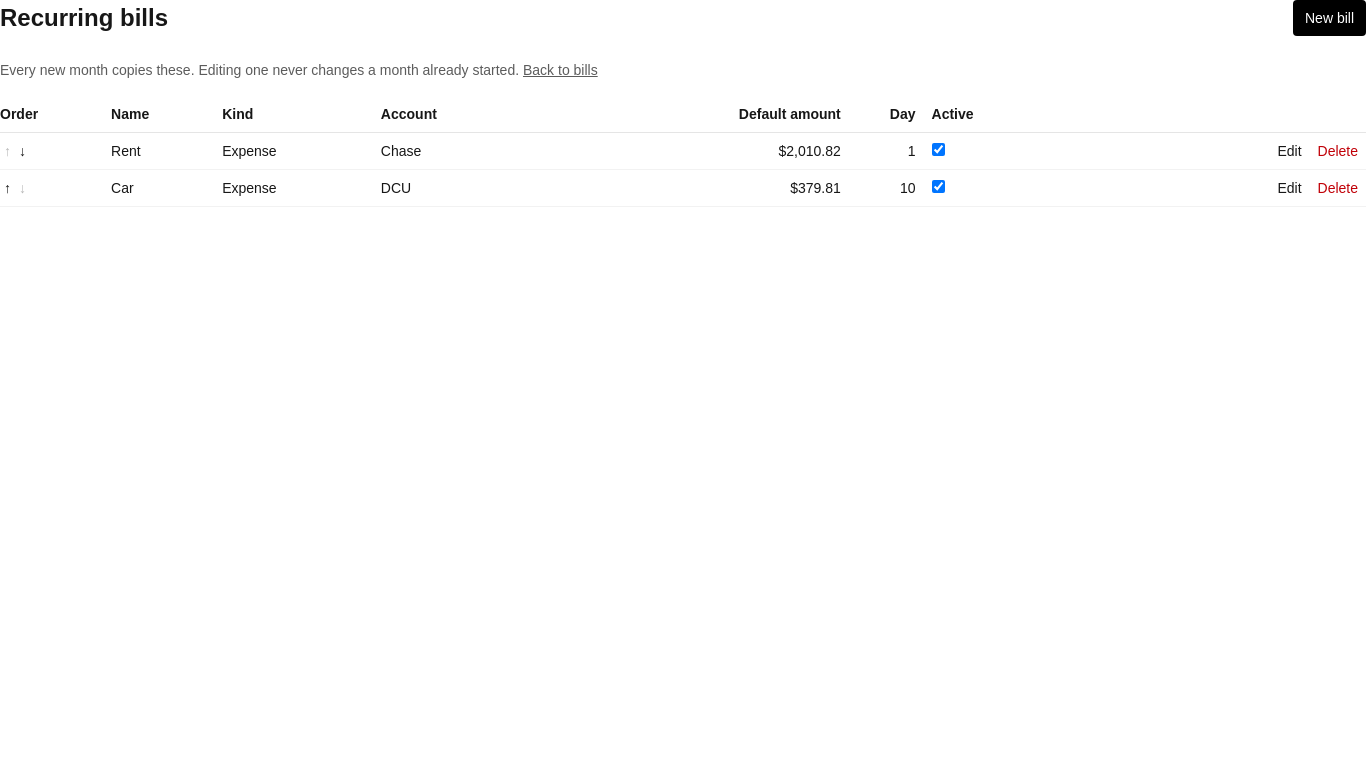
Test: RecurringItemsPage › shows the 409 message when a bill used by a month is deleted
What coordinates should you click on to do the following:
click the button named "Delete Rent"
I would click on:
 (1338, 151)
Its box is [1310,141,1365,161].
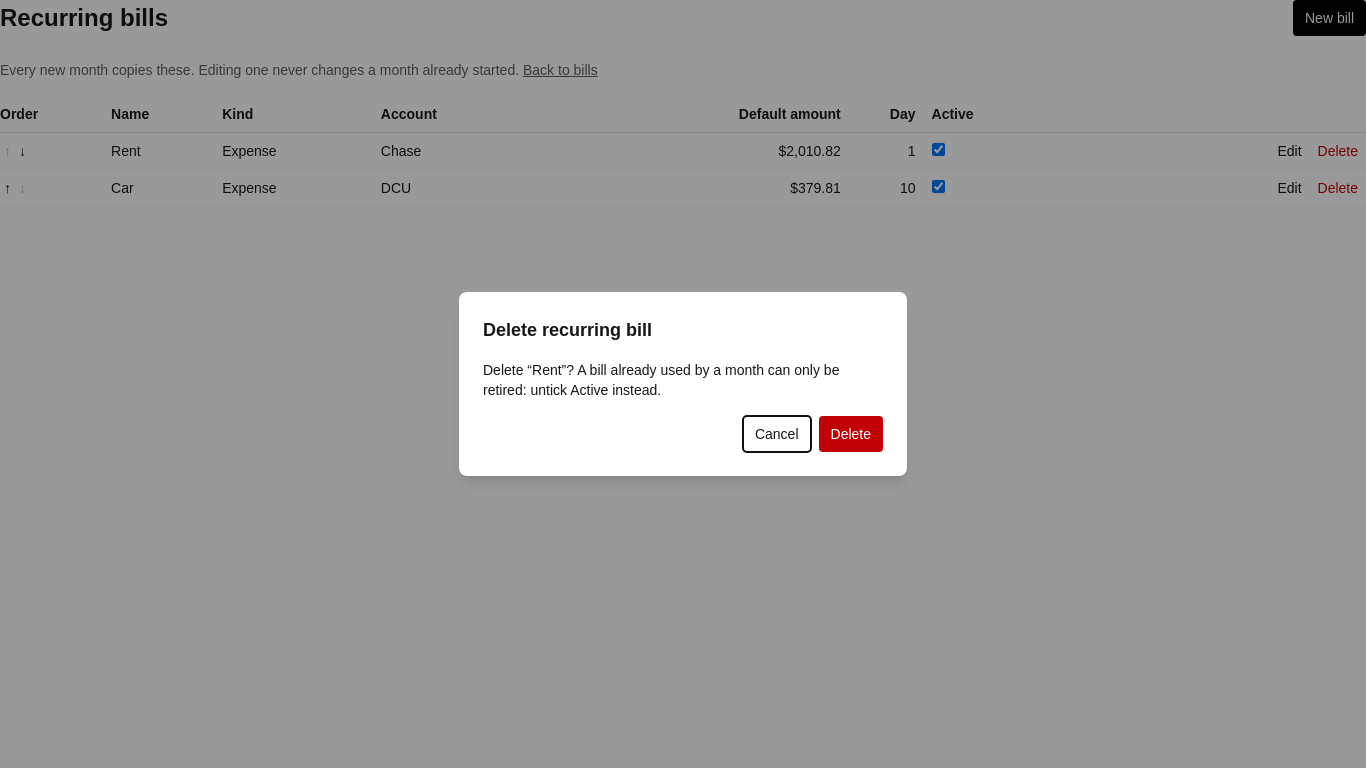
What coordinates should you click on to do the following:
click the button "Delete"
I would click on:
 (851, 434)
Its box is [818,416,883,452].
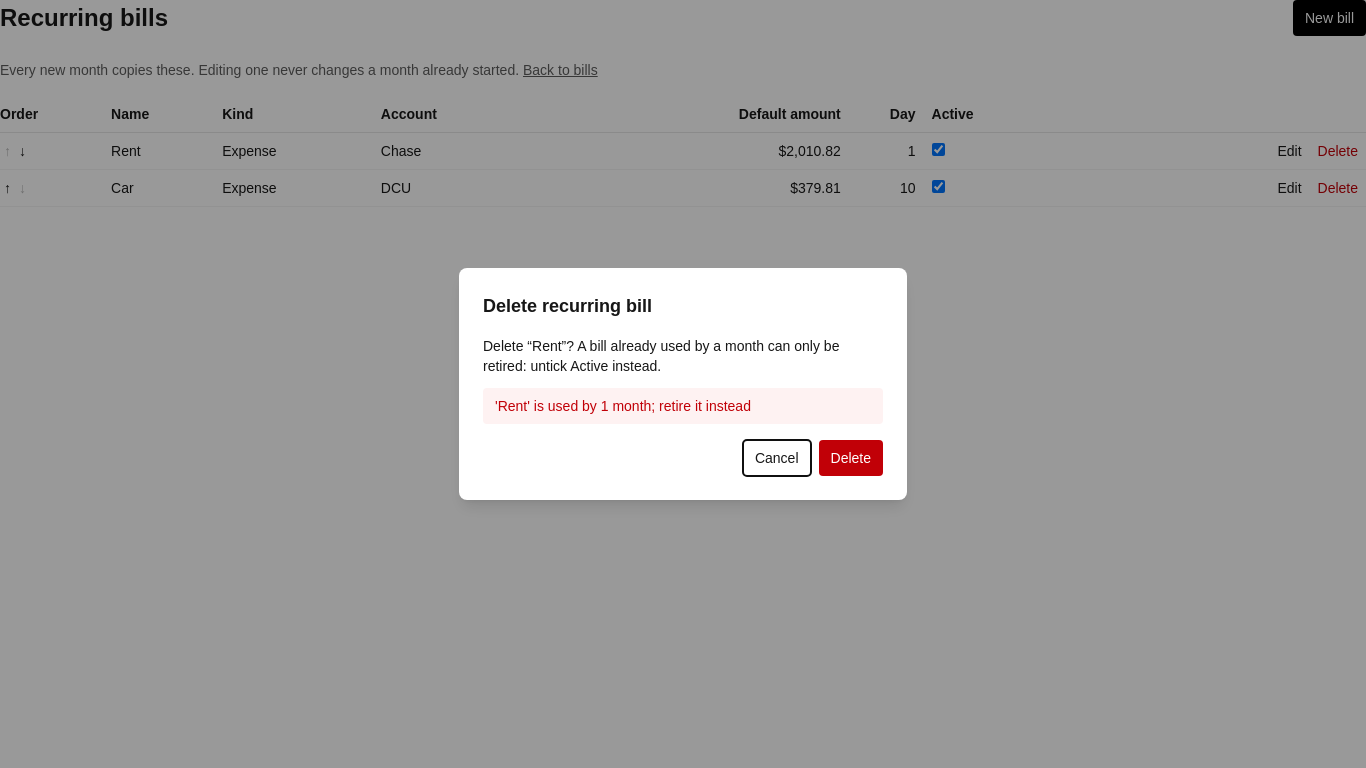
Expected: the text "'Rent' is used by 1 month; retire it instead" is shown, [483,388,883,424]
